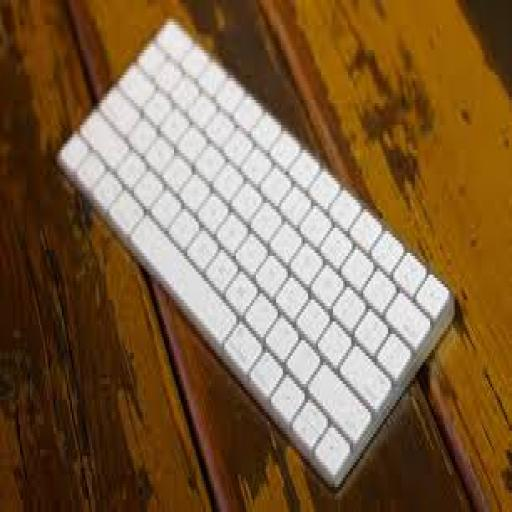keyboard: (59, 19, 452, 484)
